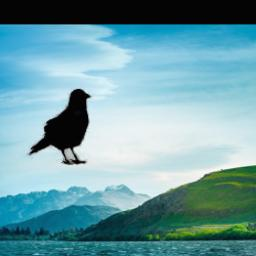Crow: (26, 87, 93, 165)
